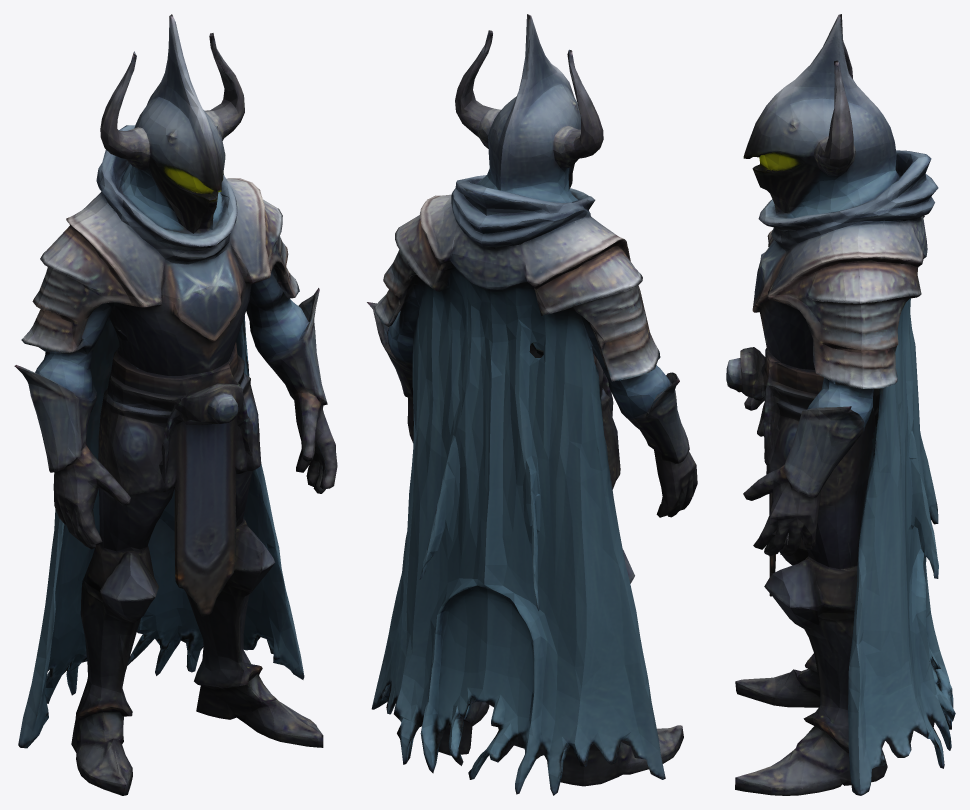
File: GhostKnight.glb
The picture shows the model from 3 angles, left to right: view 1: azimuth 30°, elevation 25°; view 2: azimuth 150°, elevation 25°; view 3: azimuth 270°, elevation 25°; orthographic projection. The views are drawn at different scales.
Parts seen in each view (by area): view 1: world; view 2: world; view 3: world.
Boxes of the visible parts, <box> form: world: <box>14,14,337,795</box>; world: <box>367,14,697,795</box>; world: <box>726,14,955,795</box>.
Size of the model in its own units: 0.444 by 1 by 0.2859.
1 material, 1 textured.
